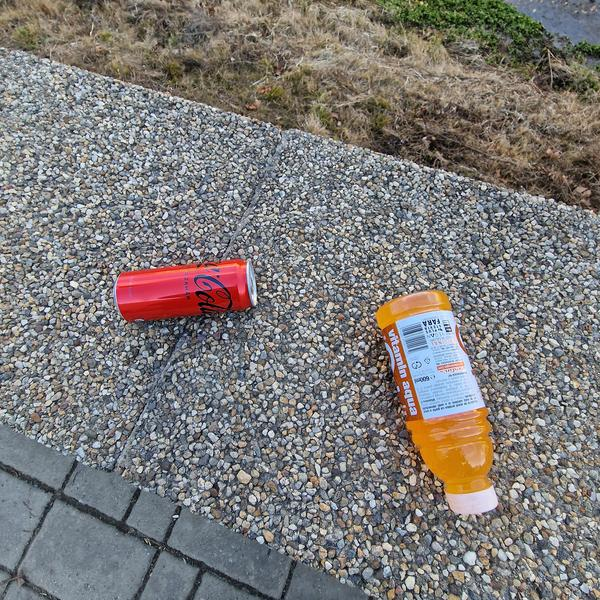can: (114, 260, 262, 324)
plastic_bottle: (371, 282, 514, 527)
